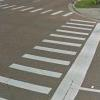Crosswalk: (17, 2, 93, 100)
